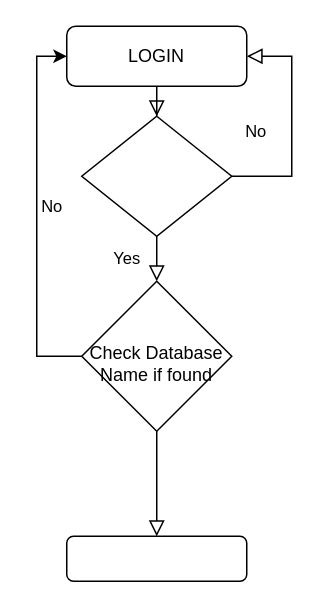
Image size: 333x608. Some labels were removed from this diagram. Here are the shapes that lost their labels. From the top down, the centre of each, then its label:
point (156, 175): Logins details
point (156, 558): DASHBOARD
